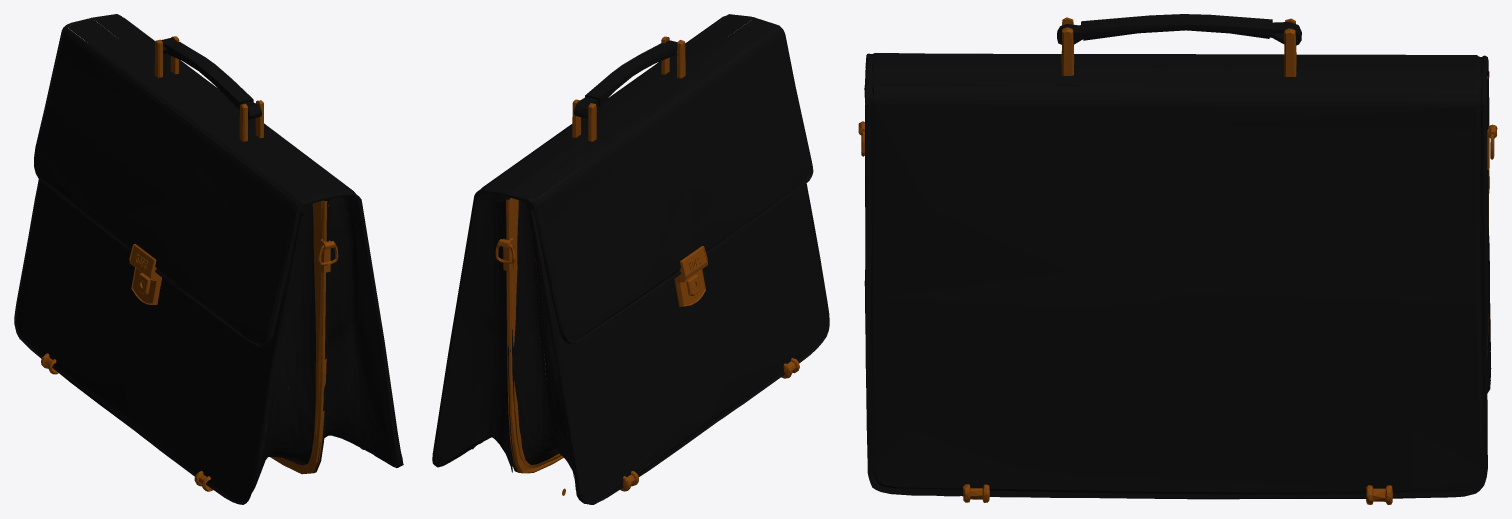
Rendered from men_bag_gray.obj.
3 renders of one model, left to right at view 1: azimuth 30°, elevation 25°; view 2: azimuth 150°, elevation 25°; view 3: azimuth 270°, elevation 25°, orthographic. The views are drawn at different scales.
Parts seen in each view (by area): view 1: Loft01.001; view 2: Loft01.001; view 3: Loft01.001.
Part boxes in pixels (x1,y1,x2,y2): Loft01.001: (14,14,403,504); Loft01.001: (432,14,829,504); Loft01.001: (858,14,1497,504).
Bounding box in the file's own units: 0.0128 × 0.0248 × 0.0321.
